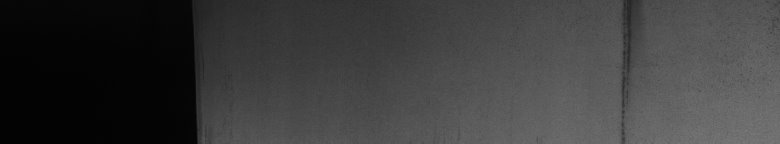hd: (615, 4, 638, 136)
